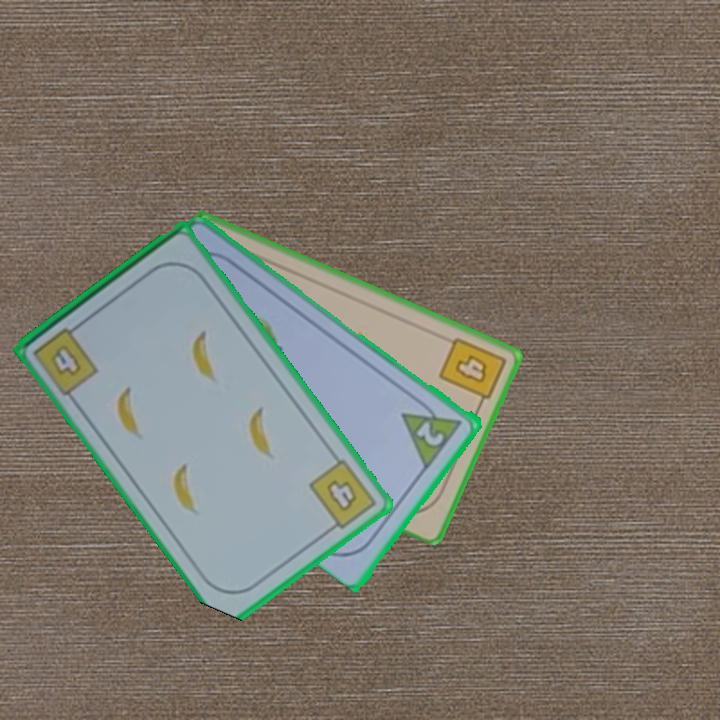2p: (398, 393, 467, 471)
4b: (305, 455, 380, 536), (435, 333, 509, 412), (29, 318, 102, 396)
